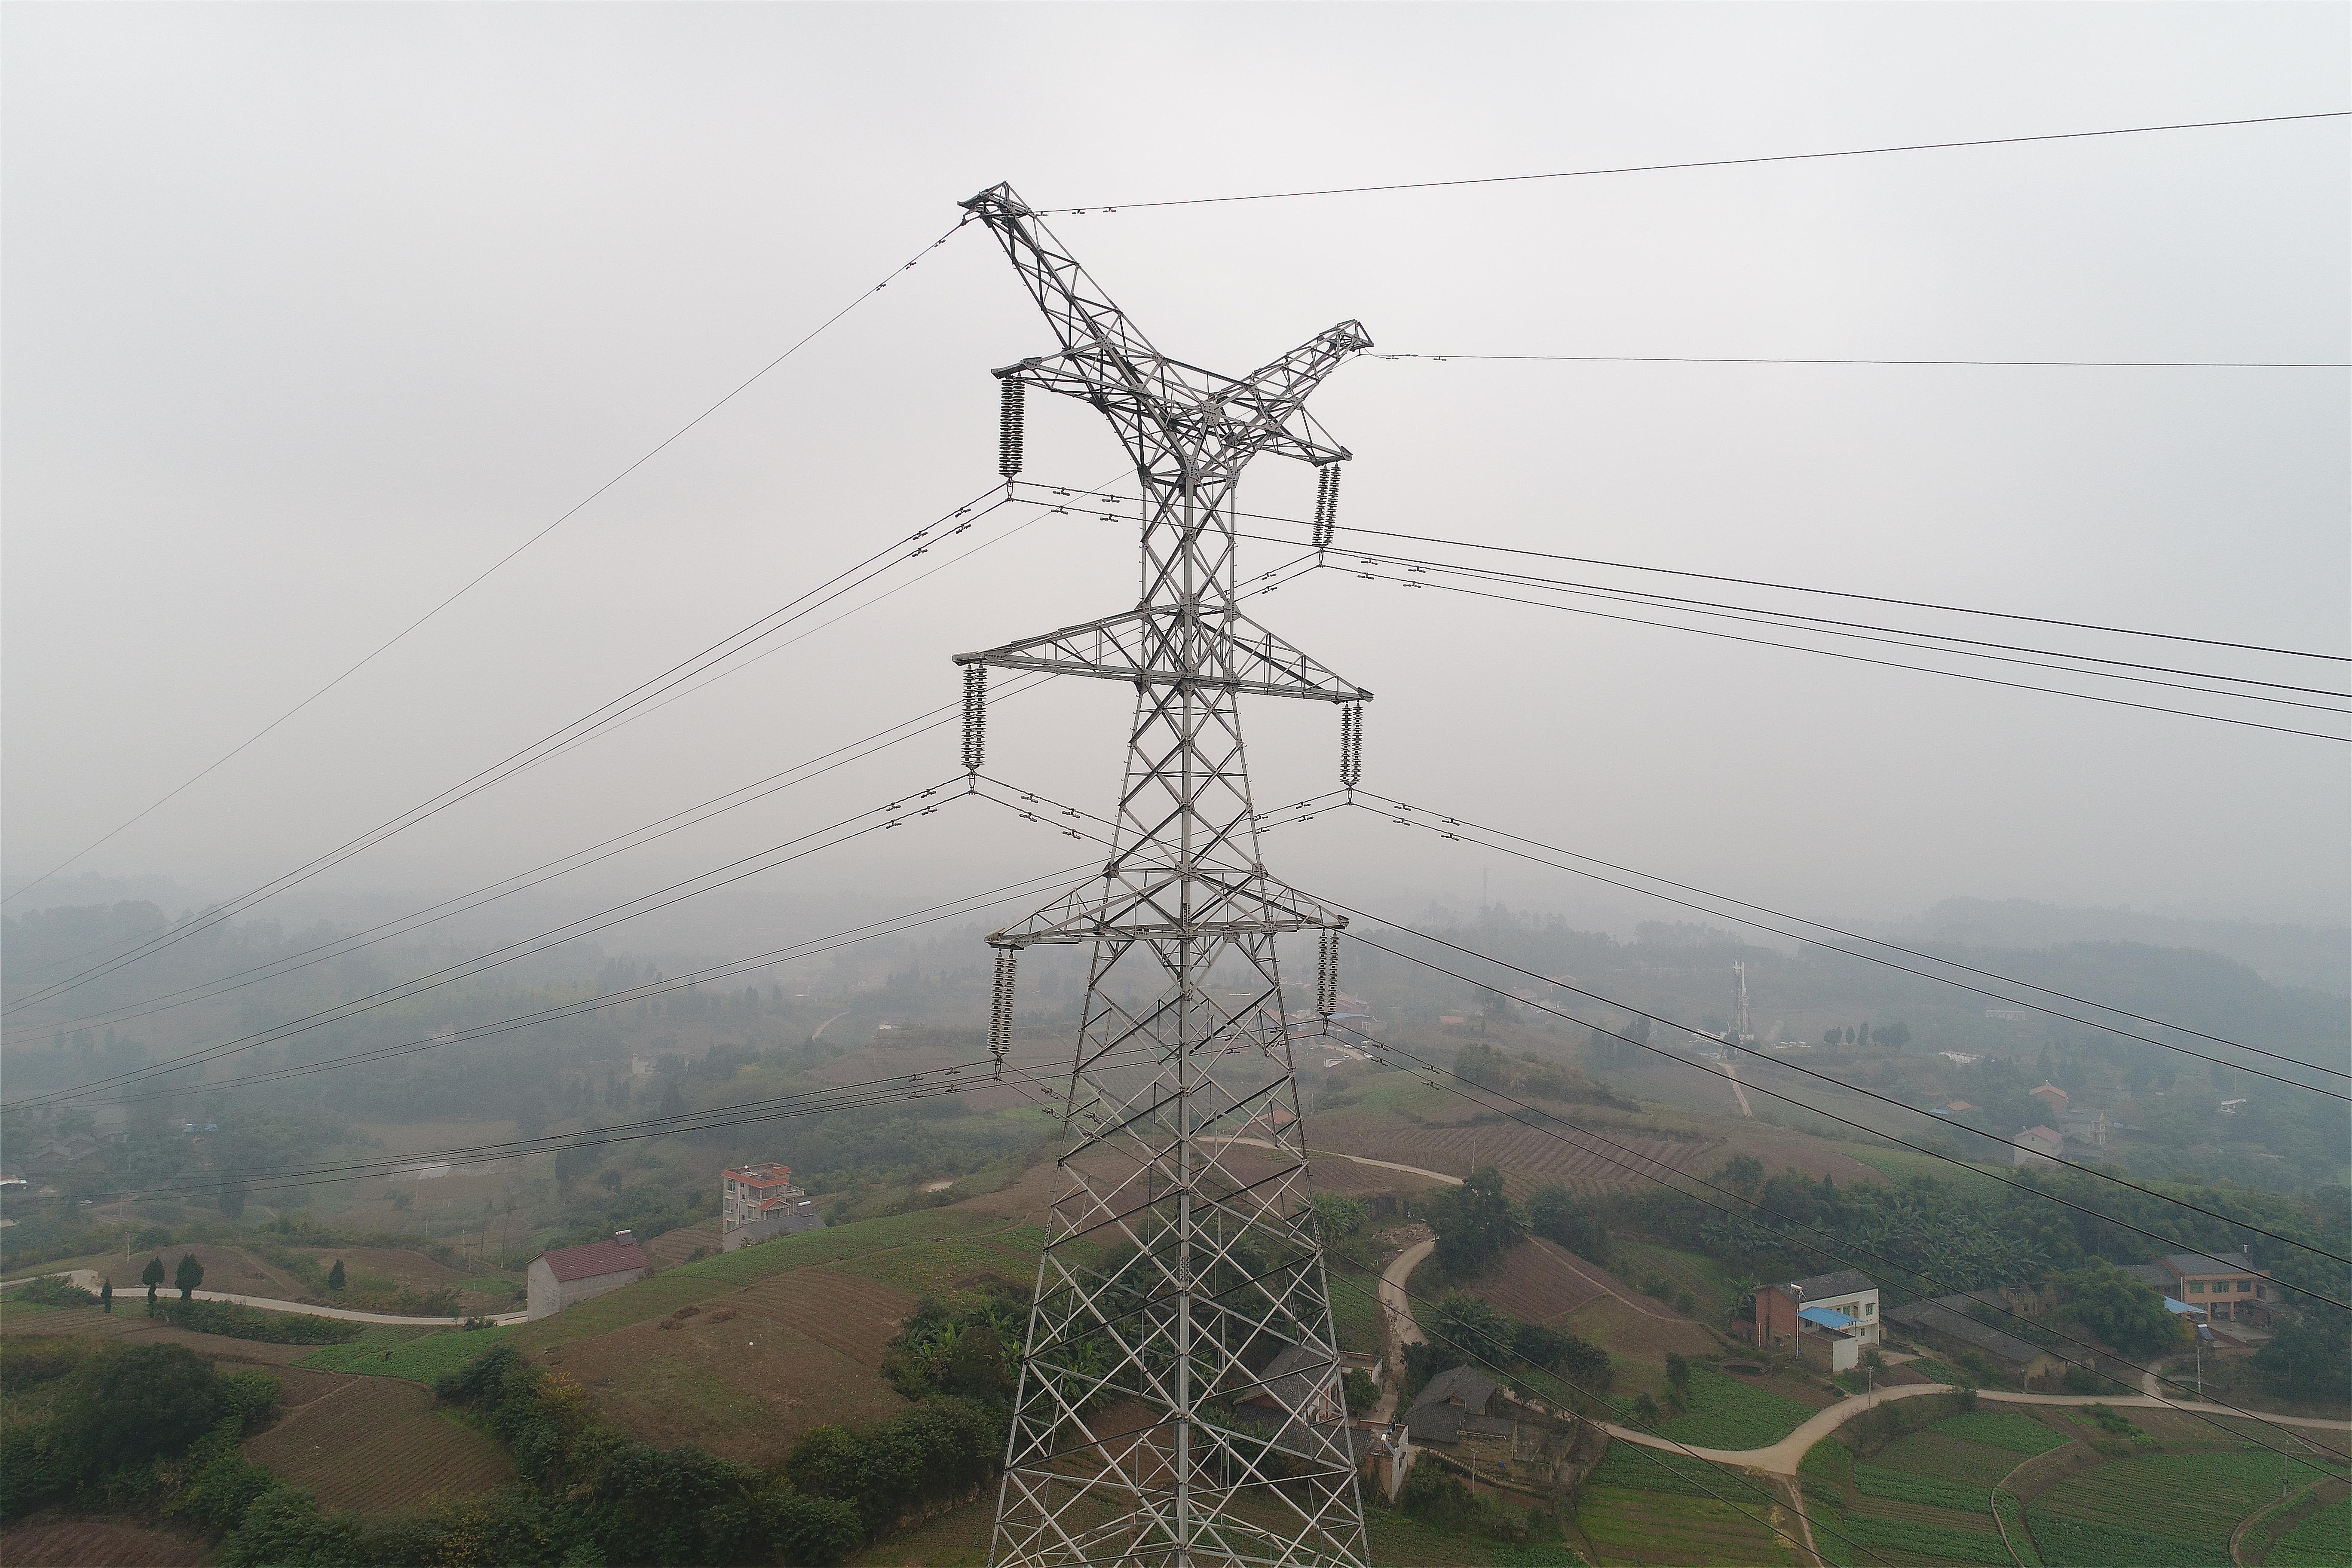insultor4: (987, 950, 1018, 1071), (1309, 934, 1349, 1018), (994, 374, 1027, 476), (959, 663, 989, 770), (1309, 464, 1346, 546), (1337, 705, 1368, 786)
